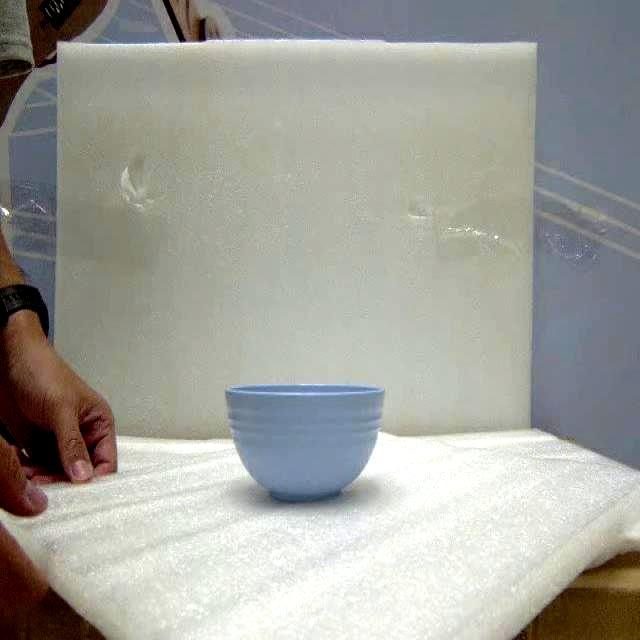Bowl: (226, 385, 383, 500)
